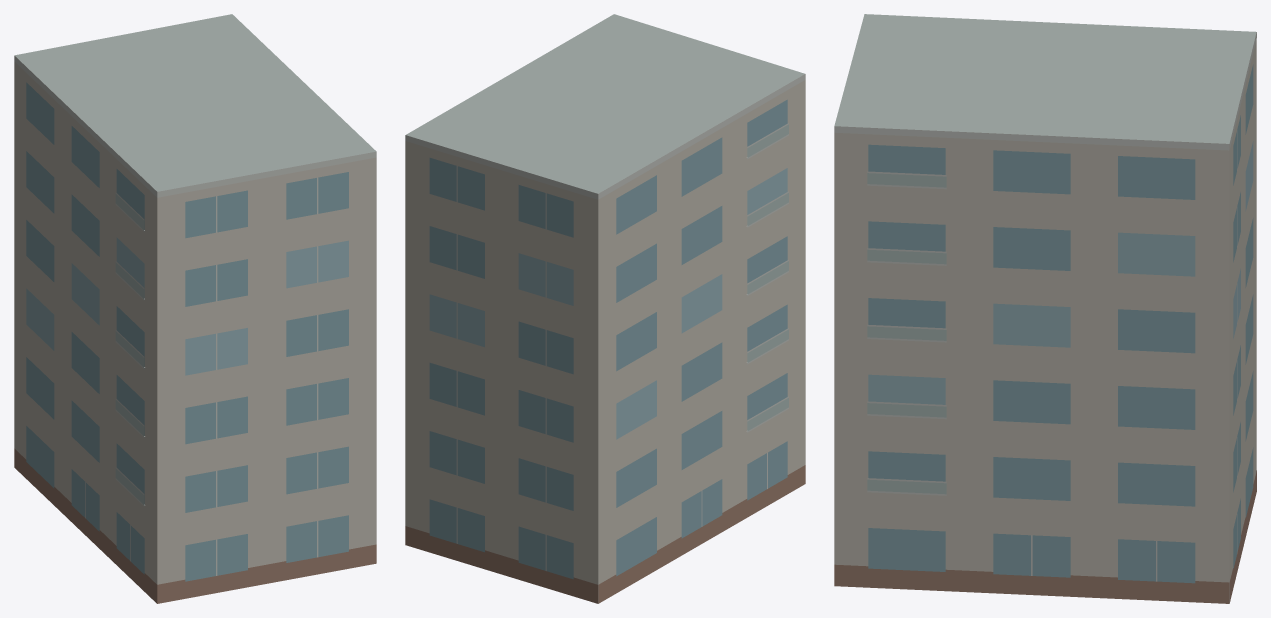
File: survey-upis-32573704.glb
3 renders of one model, left to right at view 1: azimuth 30°, elevation 25°; view 2: azimuth 150°, elevation 25°; view 3: azimuth 270°, elevation 25°, orthographic. The views are drawn at different scales.
Visible parts, largest first — view 1: survey-upis-32573704.tmp; view 2: survey-upis-32573704.tmp; view 3: survey-upis-32573704.tmp.
Part boxes in pixels (x1,y1,x2,y2): survey-upis-32573704.tmp: (14, 14, 376, 603); survey-upis-32573704.tmp: (405, 14, 805, 603); survey-upis-32573704.tmp: (834, 14, 1256, 603).
Bounding box in the file's own units: 10.31 × 17 × 14.16.
